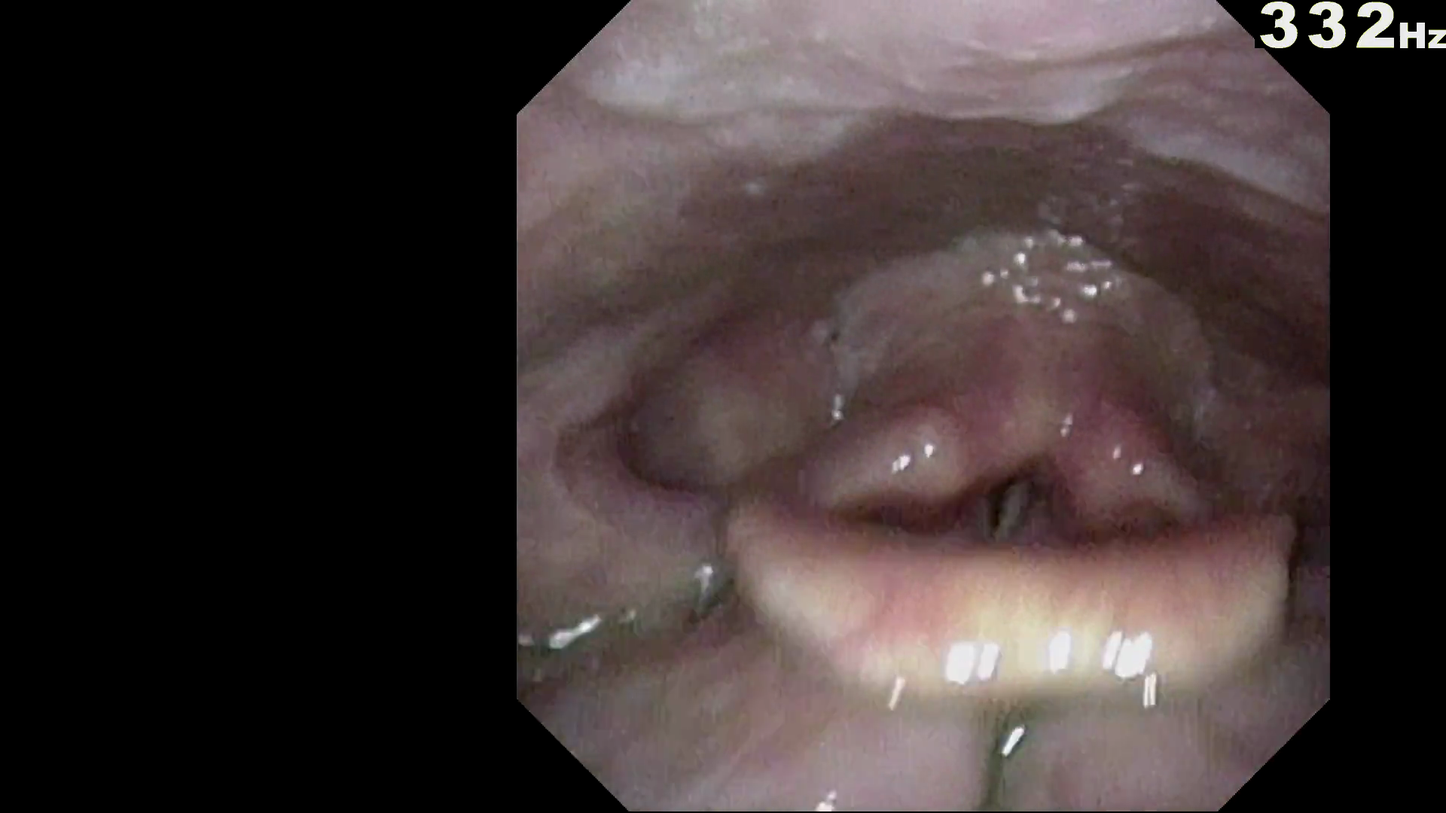epiglottis: (688, 490, 1310, 688)
trachea: (955, 422, 1087, 561)
